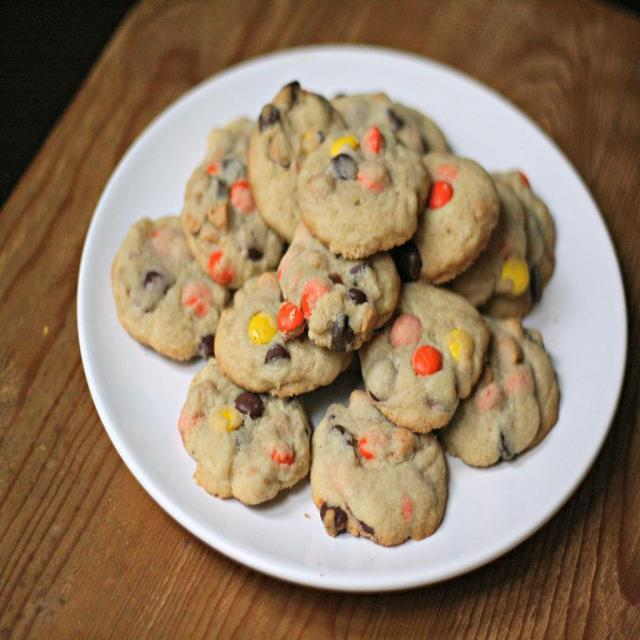Cookie: (109, 76, 561, 551), (174, 345, 314, 510)
